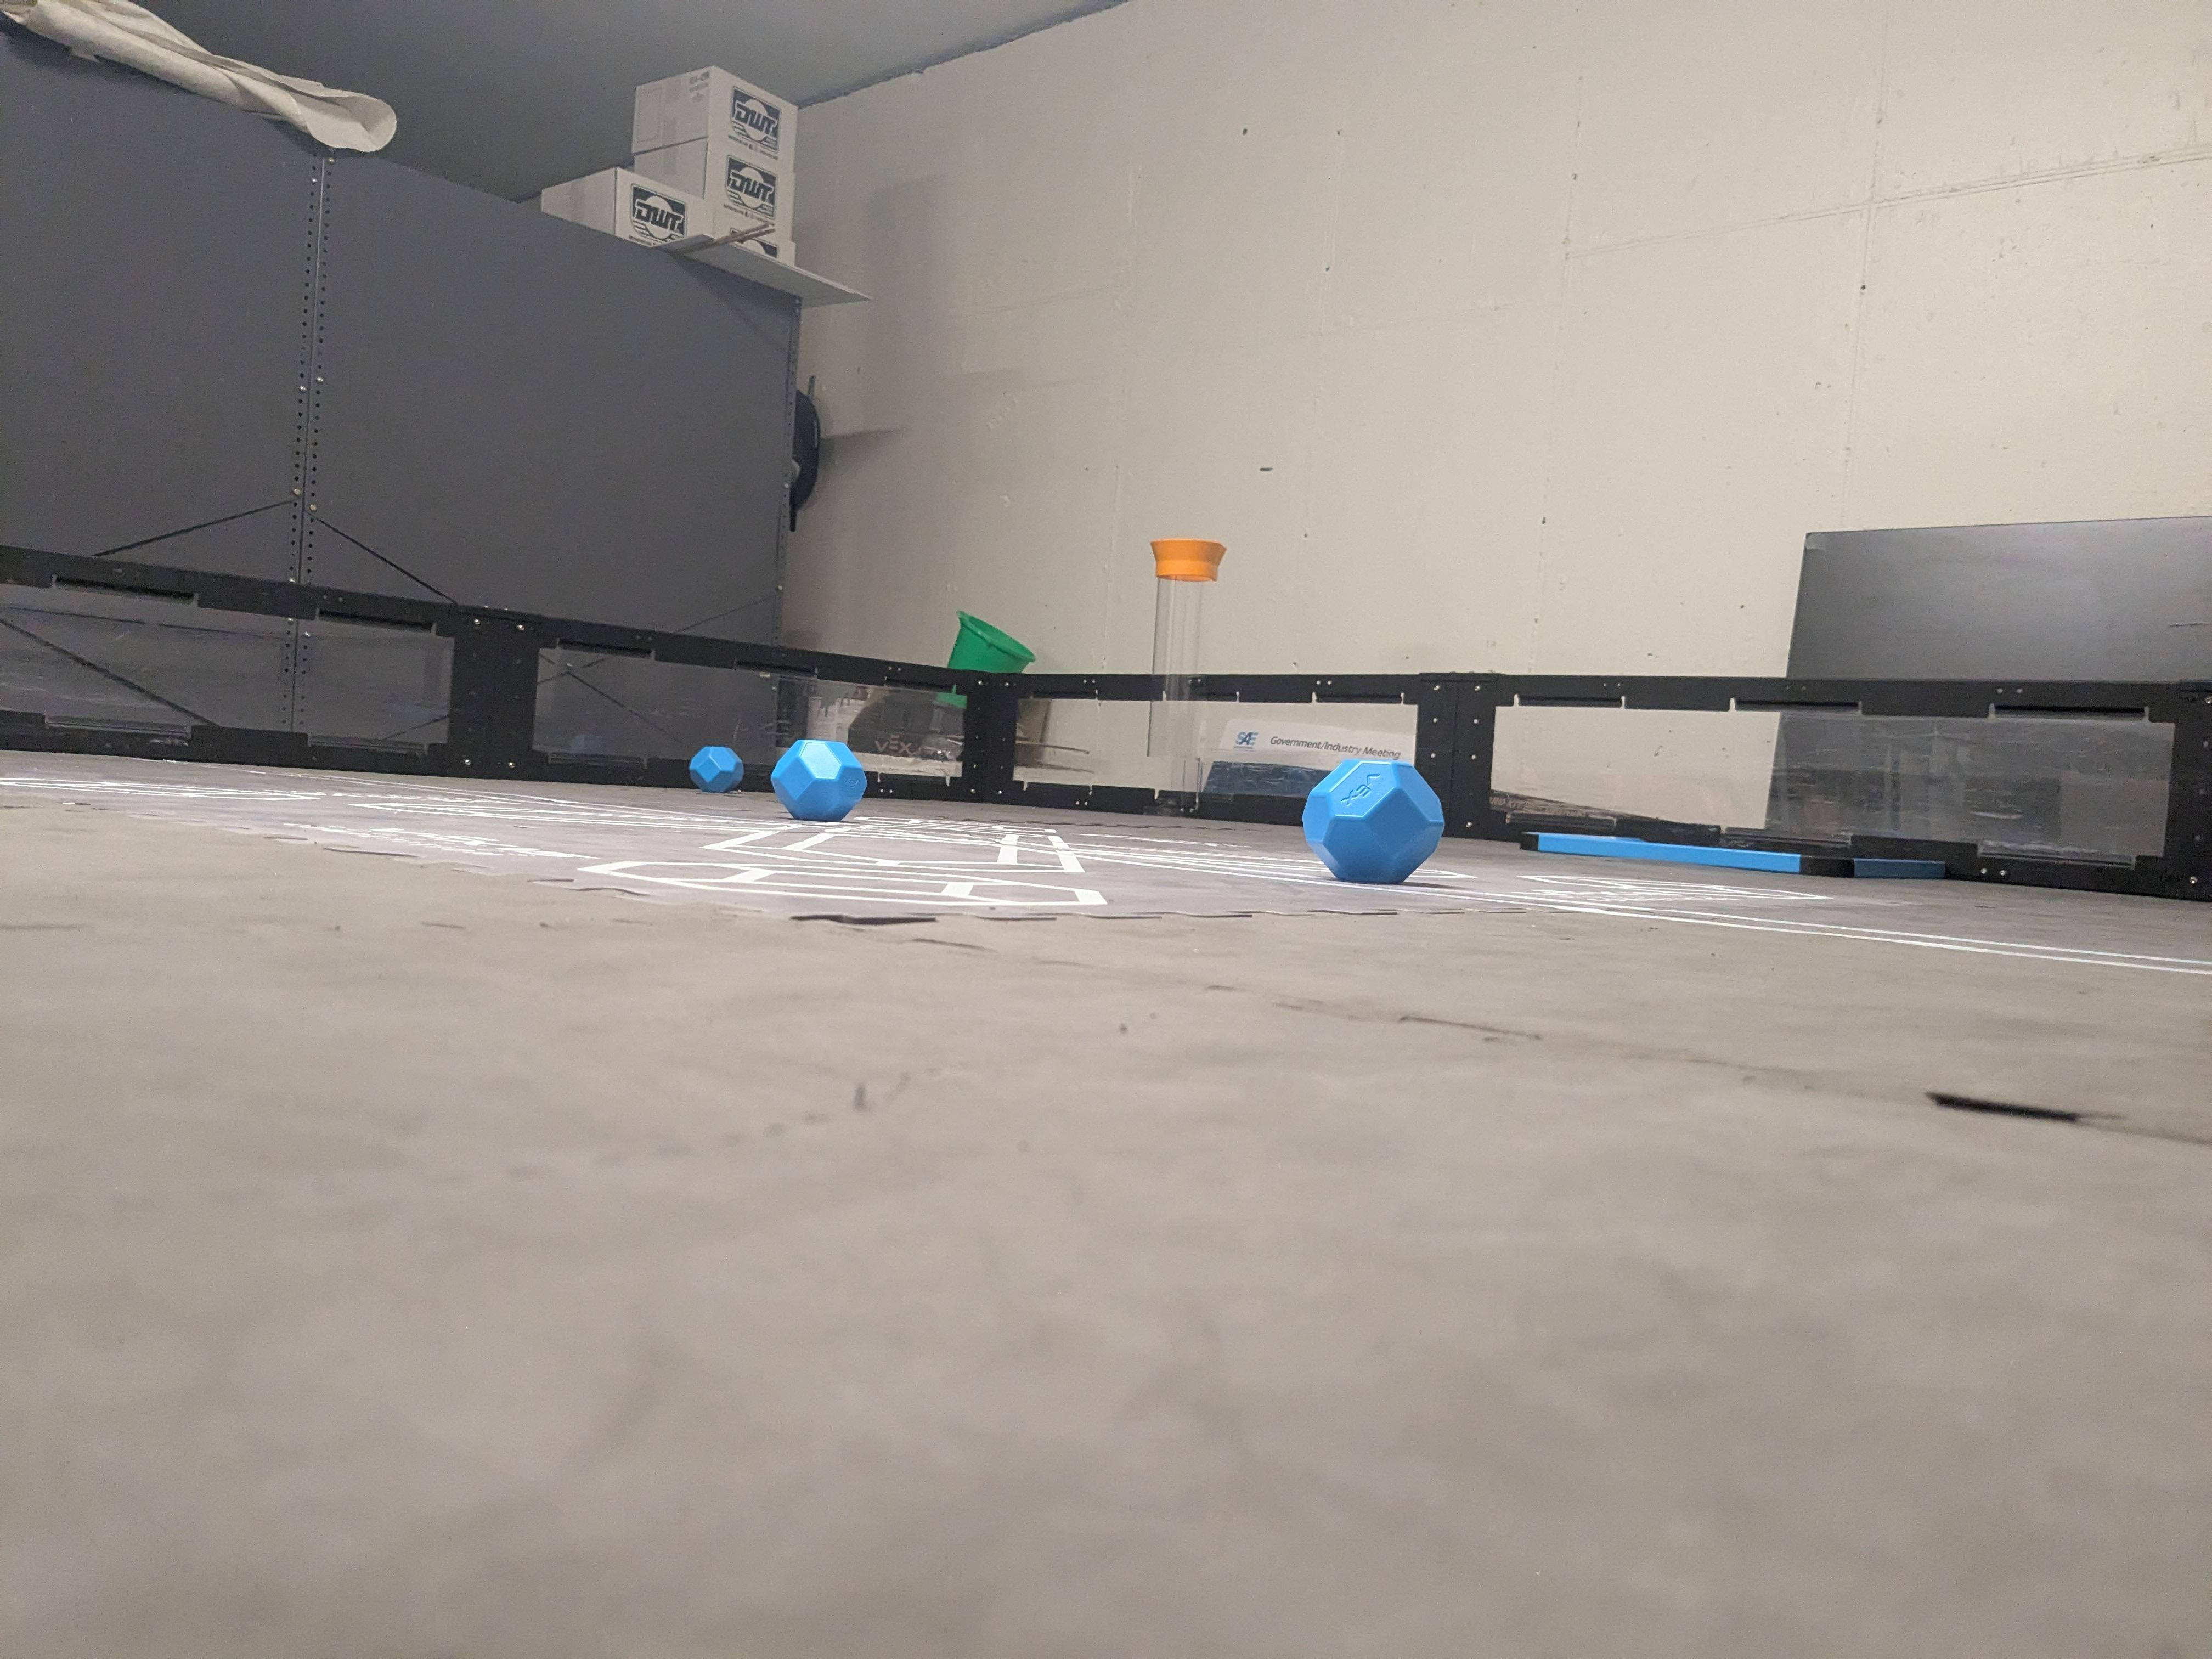Vex-Pieces-BLUE: (1303, 756, 1440, 878), (773, 739, 867, 819), (688, 746, 744, 793)
